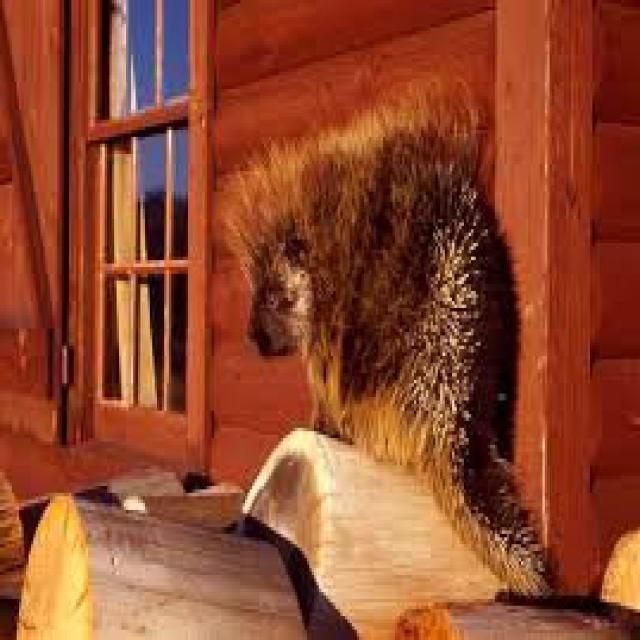porcupine: (224, 96, 550, 592)
